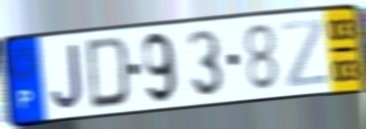3: (186, 28, 226, 98)
8: (242, 22, 280, 93)
9: (141, 30, 180, 106)
D: (84, 34, 132, 112)
J: (49, 40, 85, 112)
Z: (281, 16, 329, 90)
